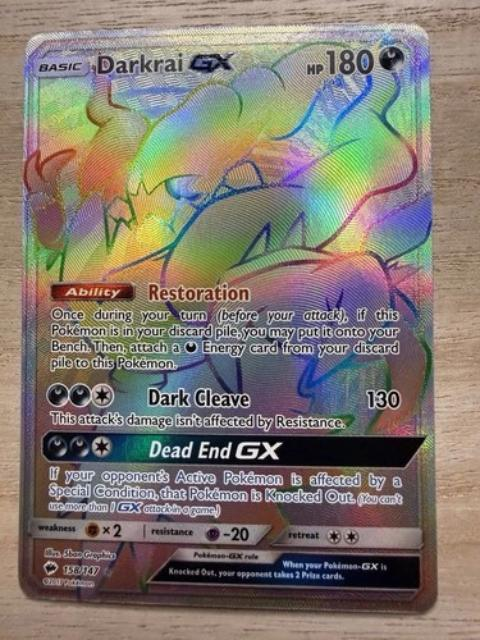Card: (14, 17, 444, 618)
Name: (91, 47, 241, 83)
